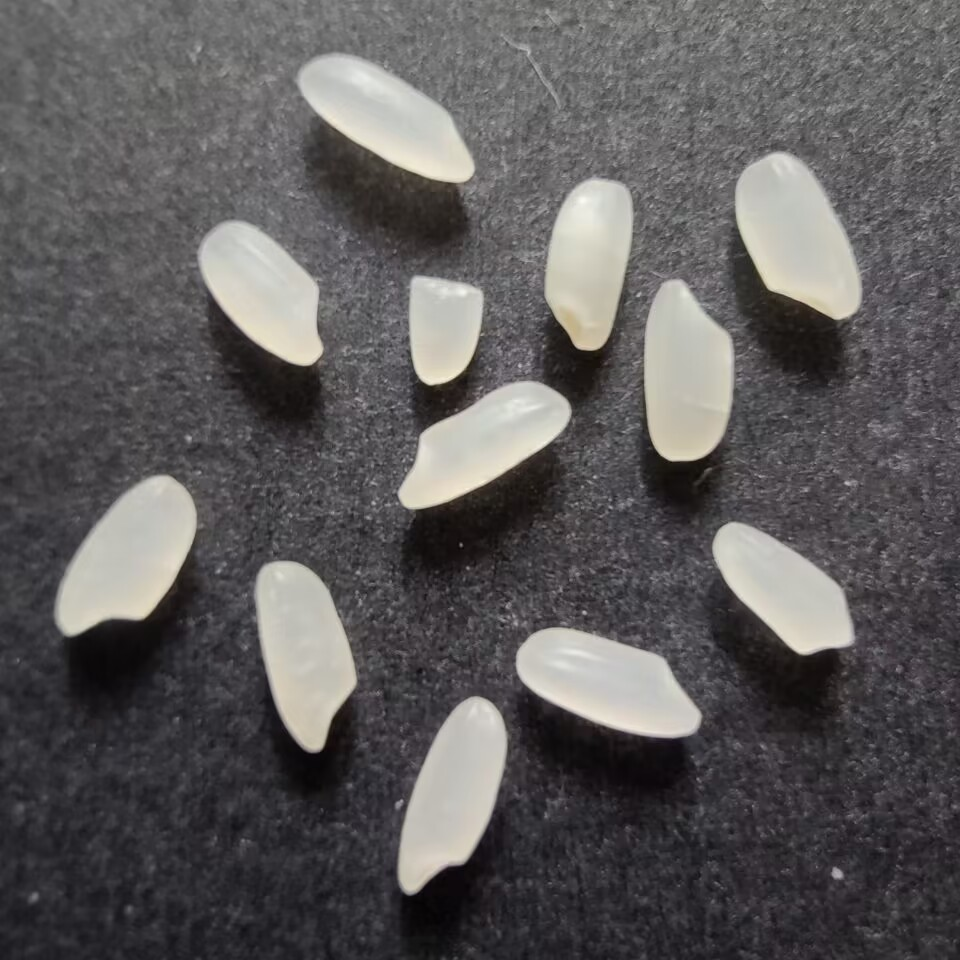broken: (404, 273, 485, 390)
rice: (49, 469, 199, 644), (392, 693, 508, 904), (296, 52, 478, 186), (394, 377, 572, 511), (511, 621, 703, 742), (732, 149, 864, 324), (254, 560, 360, 757), (195, 217, 328, 373), (708, 521, 855, 659), (640, 276, 735, 466), (541, 176, 634, 355)
